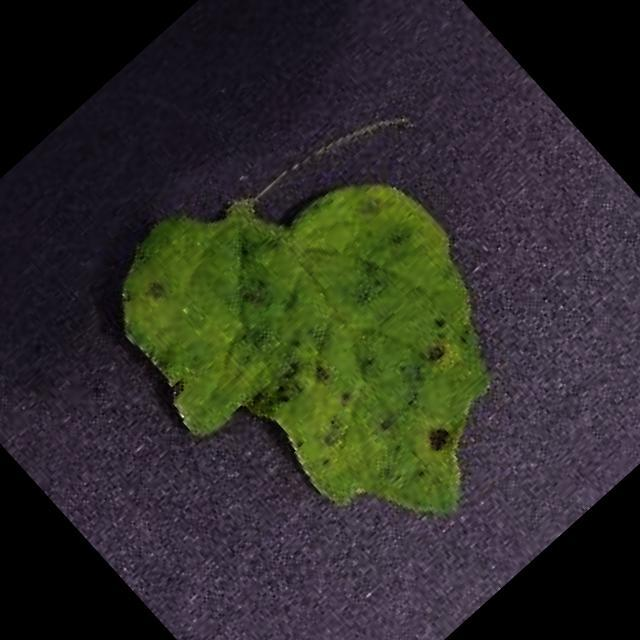Tomato Septoria spot leaf: (71, 85, 588, 609)
